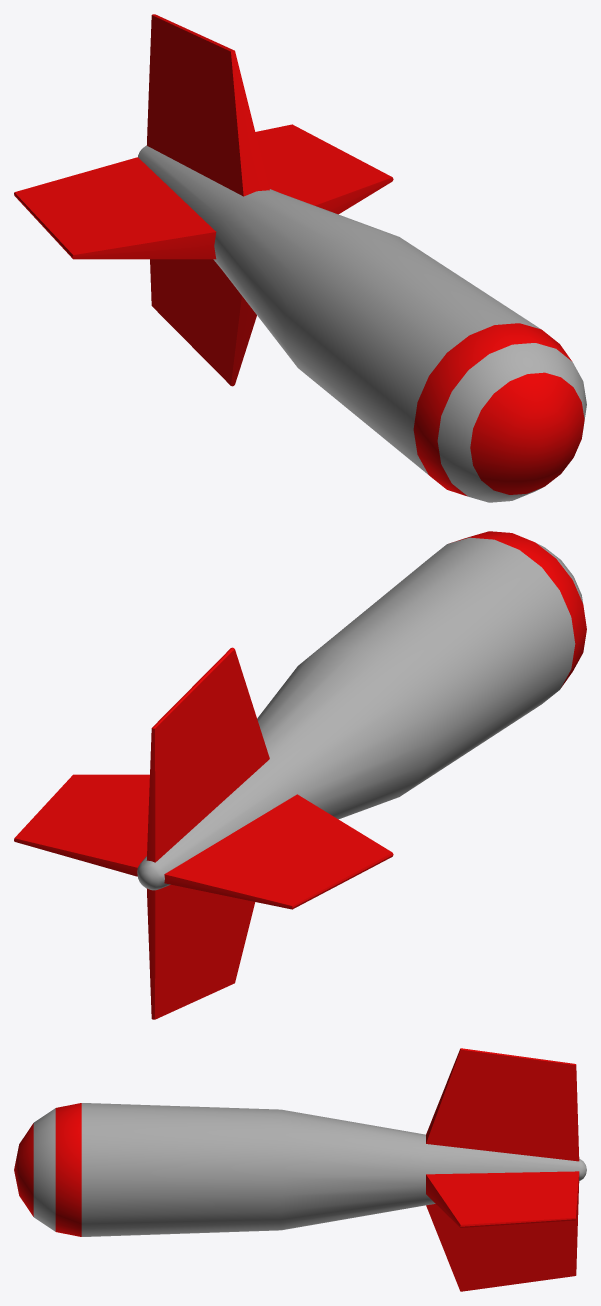
The model's file is Bomb.fbx.
3 views of the same model, one above another, from view 1: azimuth 30°, elevation 25°; view 2: azimuth 150°, elevation 25°; view 3: azimuth 270°, elevation 25° (orthographic). The views are drawn at different scales.
Parts seen in each view (by area): view 1: Bomb; view 2: Bomb; view 3: Bomb.
Boxes of the visible parts, x1=… form: Bomb: x1=14, y1=14, x2=586, y2=502; Bomb: x1=14, y1=531, x2=586, y2=1019; Bomb: x1=14, y1=1048, x2=586, y2=1291.
Size of the model in its own units: 1.37 by 1.37 by 2.91.
